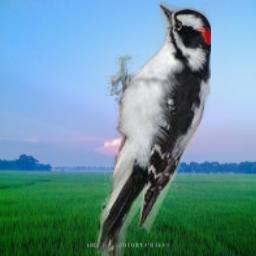Woodpecker: (95, 1, 211, 256)
